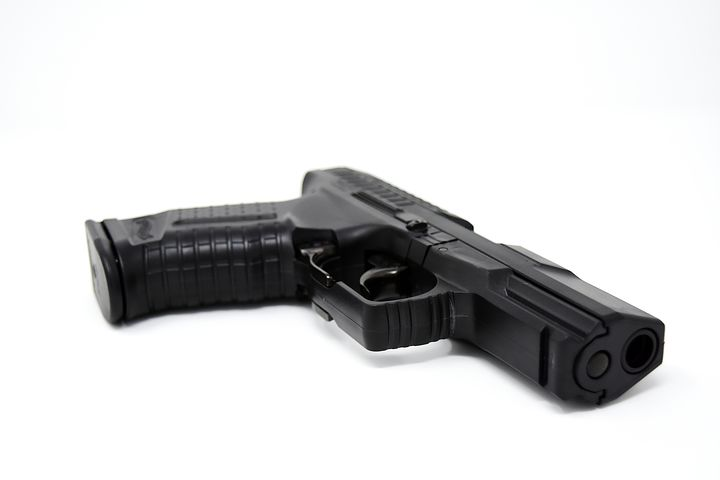gun: (73, 160, 674, 415)
